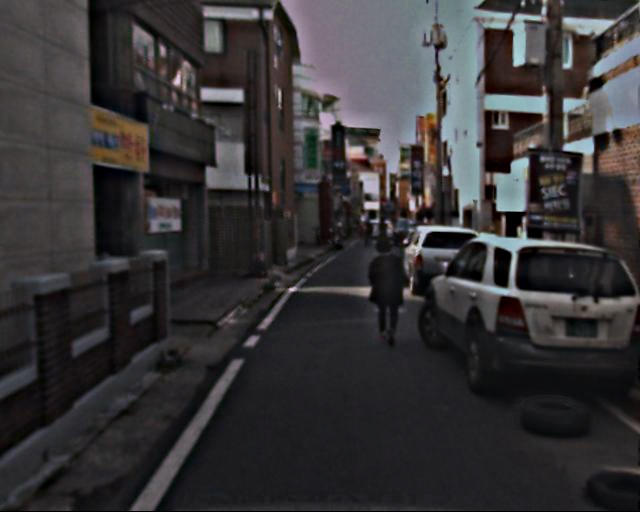person: (363, 237, 409, 350), (363, 217, 390, 245)
